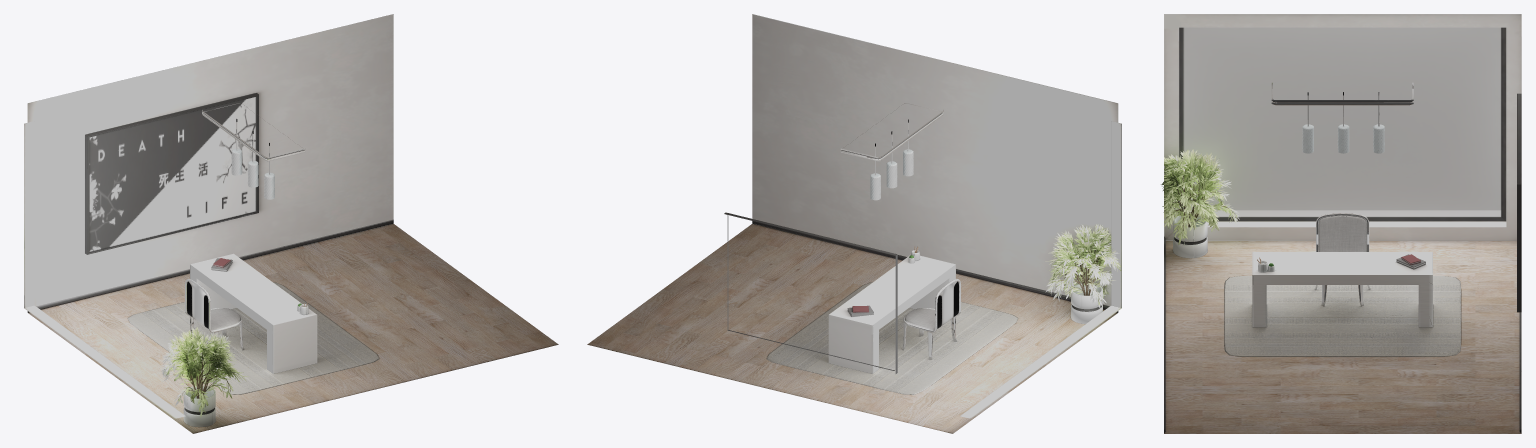
File: modern-office.glb
3 renders of one model, left to right at view 1: azimuth 30°, elevation 25°; view 2: azimuth 150°, elevation 25°; view 3: azimuth 270°, elevation 25°, orthographic. The views are drawn at different scales.
Parts seen in each view (by area): view 1: Window; view 2: Window; view 3: Window.
Part boxes in pixels (x1,y1,x2,y2): Window: (24,14,558,433); Window: (587,14,1121,433); Window: (1161,14,1521,433).
Bounding box in the file's own units: 5.98 × 3.08 × 4.44.
Materials: 11 (11 with a texture image).
